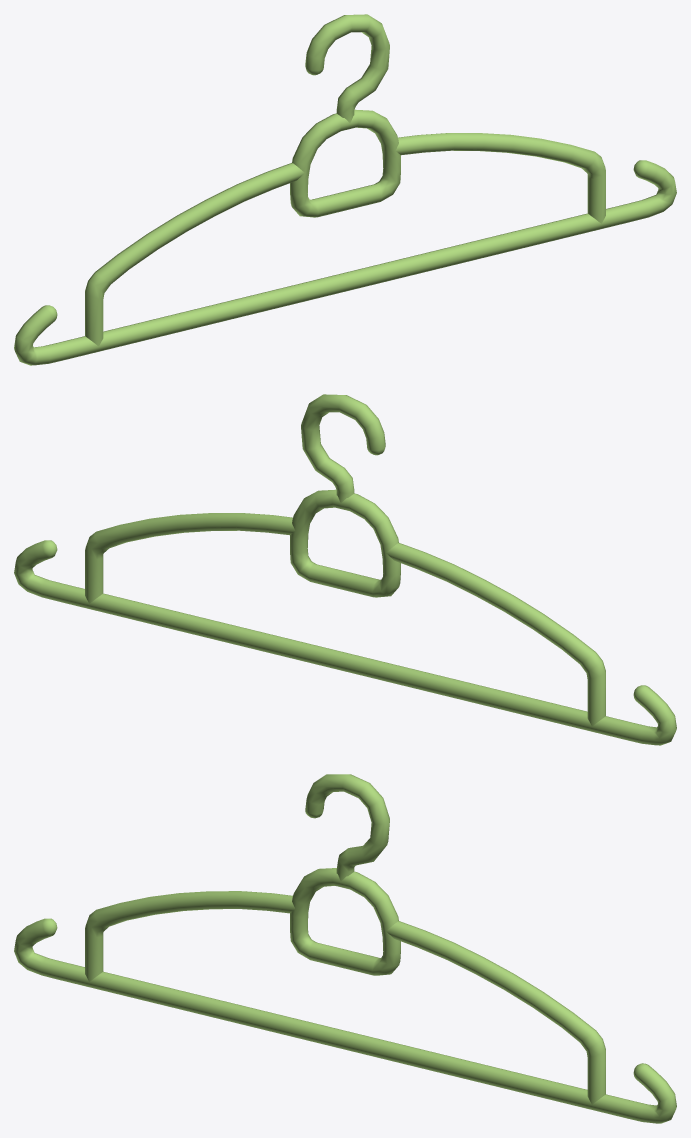
The model's file is clothes_hanger_green.FBX.
3 renders of one model, top to bottom at view 1: azimuth 30°, elevation 25°; view 2: azimuth 150°, elevation 25°; view 3: azimuth 330°, elevation 25°, orthographic.
Parts seen in each view (by area): view 1: clothes_hanger_green; view 2: clothes_hanger_green; view 3: clothes_hanger_green.
Part boxes in pixels (left/top/right/bottom): clothes_hanger_green: left=14, top=14, right=676, bottom=365; clothes_hanger_green: left=14, top=394, right=676, bottom=745; clothes_hanger_green: left=14, top=774, right=676, bottom=1123.
Bounding box in the file's own units: 57.02 × 22.69 × 1.44.
1 material, 1 textured.
